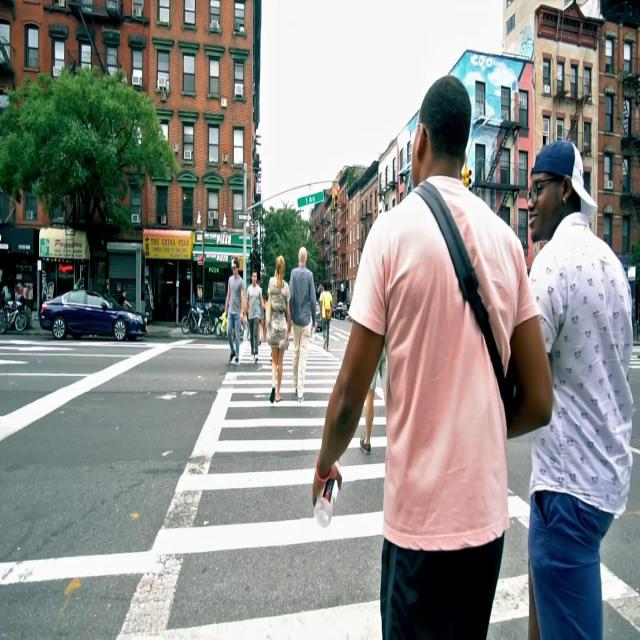Persona: (327, 53, 541, 640), (526, 120, 640, 639), (291, 244, 320, 400), (264, 252, 290, 406), (222, 258, 246, 367)
